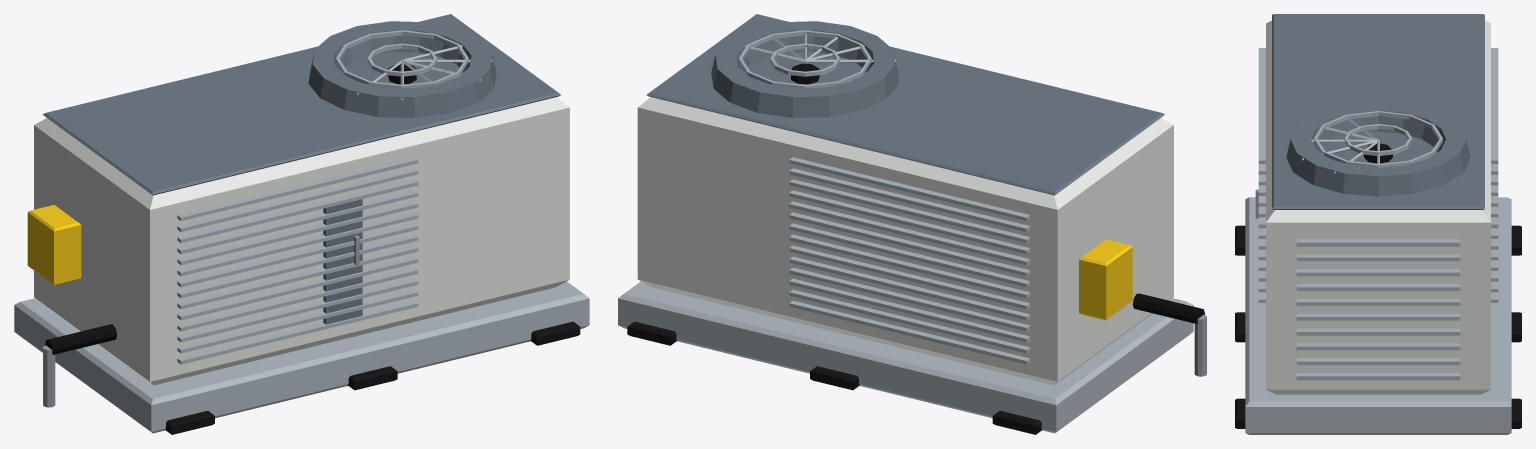
Rendered from UTILITY_07.obj.
The picture shows the model from 3 angles, left to right: view 1: azimuth 30°, elevation 25°; view 2: azimuth 150°, elevation 25°; view 3: azimuth 270°, elevation 25°; orthographic projection. The views are drawn at different scales.
Parts seen in each view (by area): view 1: UTILITY_07__housing, UTILITY_07__top_panel, UTILITY_07__curb_rail, UTILITY_07__coil_grille, UTILITY_07__fan_shroud, UTILITY_07__disconnect, UTILITY_07__fan_guard, UTILITY_07__access_panel, UTILITY_07__feet, UTILITY_07__line_set; view 2: UTILITY_07__housing, UTILITY_07__top_panel, UTILITY_07__coil_grille, UTILITY_07__curb_rail, UTILITY_07__fan_shroud, UTILITY_07__disconnect, UTILITY_07__fan_guard, UTILITY_07__feet, UTILITY_07__line_set; view 3: UTILITY_07__housing, UTILITY_07__top_panel, UTILITY_07__curb_rail, UTILITY_07__end_grille, UTILITY_07__fan_shroud, UTILITY_07__coil_grille, UTILITY_07__fan_guard, UTILITY_07__feet, UTILITY_07__fan_hub.
Boxes of the visible parts, <box> form: UTILITY_07__housing: <box>34,97,569,385</box>; UTILITY_07__top_panel: <box>43,14,560,195</box>; UTILITY_07__curb_rail: <box>14,281,589,433</box>; UTILITY_07__coil_grille: <box>177,157,418,364</box>; UTILITY_07__fan_shroud: <box>308,21,496,117</box>; UTILITY_07__disconnect: <box>27,205,81,285</box>; UTILITY_07__fan_guard: <box>336,30,492,100</box>; UTILITY_07__access_panel: <box>323,199,362,324</box>; UTILITY_07__feet: <box>165,321,580,434</box>; UTILITY_07__line_set: <box>43,324,116,407</box>; UTILITY_07__housing: <box>637,97,1173,385</box>; UTILITY_07__top_panel: <box>647,14,1164,195</box>; UTILITY_07__coil_grille: <box>789,157,1030,364</box>; UTILITY_07__curb_rail: <box>618,281,1193,433</box>; UTILITY_07__fan_shroud: <box>711,21,899,117</box>; UTILITY_07__disconnect: <box>1079,239,1132,320</box>; UTILITY_07__fan_guard: <box>739,21,895,88</box>; UTILITY_07__feet: <box>627,321,1042,434</box>; UTILITY_07__line_set: <box>1132,293,1206,376</box>; UTILITY_07__housing: <box>1266,20,1490,394</box>; UTILITY_07__top_panel: <box>1272,14,1484,209</box>; UTILITY_07__curb_rail: <box>1245,197,1511,434</box>; UTILITY_07__end_grille: <box>1296,239,1460,380</box>; UTILITY_07__fan_shroud: <box>1286,102,1470,196</box>; UTILITY_07__coil_grille: <box>1258,48,1498,302</box>; UTILITY_07__fan_guard: <box>1301,111,1442,174</box>; UTILITY_07__feet: <box>1235,225,1521,428</box>; UTILITY_07__fan_hub: <box>1364,143,1392,163</box>.
Size of the model in its own units: 2.73 by 1.3 by 1.4.
